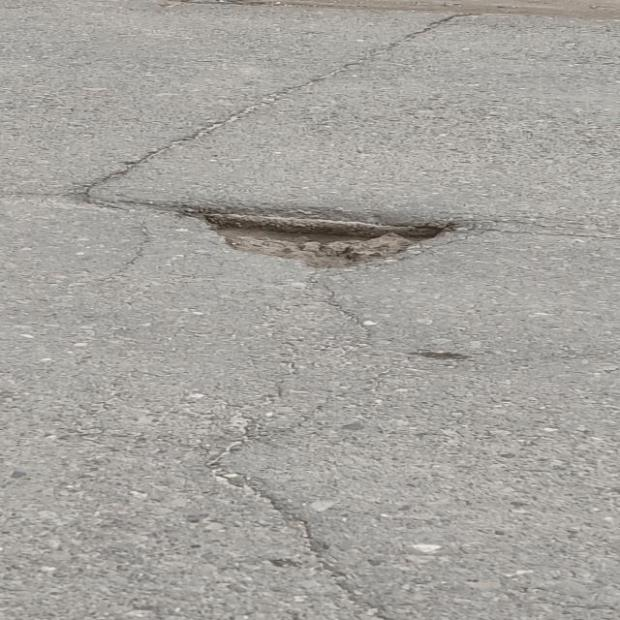lubang: (148, 203, 454, 267)
